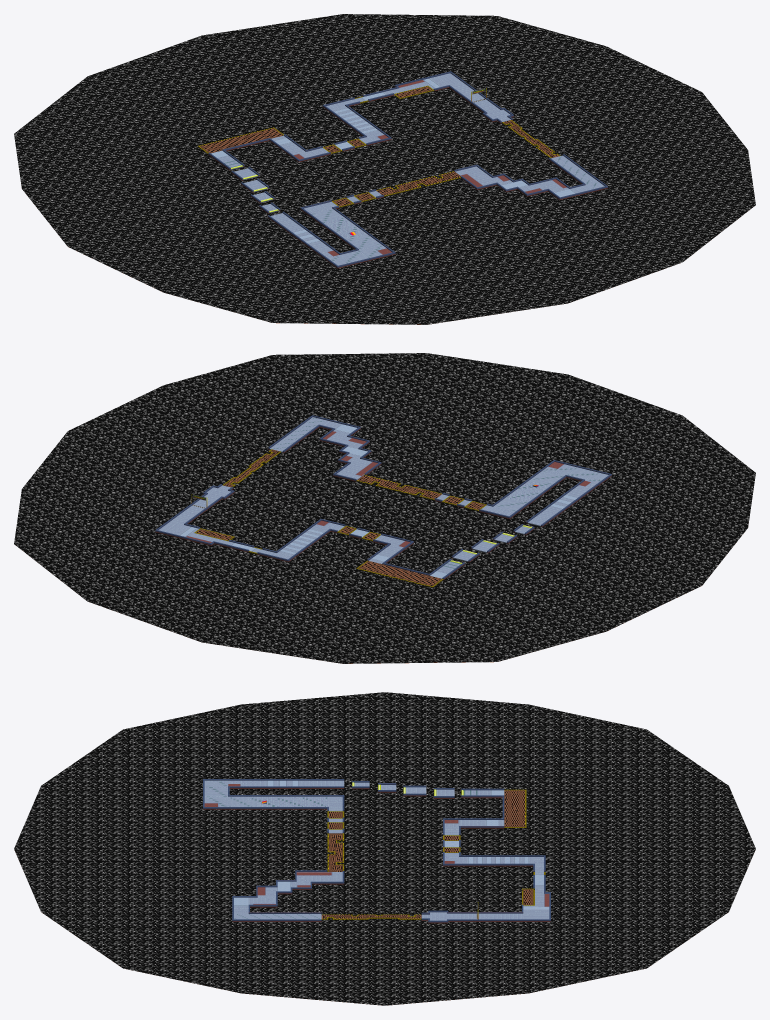
File: course.glb
3 views of the same model, one above another, from view 1: azimuth 30°, elevation 25°; view 2: azimuth 150°, elevation 25°; view 3: azimuth 270°, elevation 25° (orthographic).
Visible parts, largest first — view 1: polygon78, polygon70, polygon24, polygon25, polygon74, polygon0, polygon8, polygon71; view 2: polygon78, polygon70, polygon24, polygon25, polygon74, polygon0, polygon8, polygon71; view 3: polygon78, polygon70, polygon24, polygon25, polygon74, polygon0, polygon71, polygon8, polygon18.
Boxes of the visible parts, left/top/right/bottom form: polygon78: left=14, top=14, right=755, bottom=324; polygon70: left=217, top=73, right=591, bottom=257; polygon24: left=208, top=72, right=607, bottom=268; polygon25: left=209, top=71, right=607, bottom=266; polygon74: left=310, top=155, right=604, bottom=265; polygon0: left=200, top=86, right=558, bottom=206; polygon8: left=197, top=85, right=560, bottom=207; polygon71: left=211, top=78, right=574, bottom=243; polygon78: left=14, top=353, right=755, bottom=663; polygon70: left=158, top=420, right=596, bottom=573; polygon24: left=155, top=416, right=611, bottom=580; polygon25: left=155, top=415, right=611, bottom=577; polygon74: left=270, top=417, right=608, bottom=511; polygon0: left=196, top=449, right=484, bottom=585; polygon8: left=194, top=449, right=486, bottom=587; polygon71: left=180, top=424, right=576, bottom=578; polygon78: left=14, top=692, right=755, bottom=1005; polygon70: left=228, top=780, right=549, bottom=920; polygon24: left=203, top=779, right=550, bottom=923; polygon25: left=203, top=779, right=550, bottom=921; polygon74: left=204, top=780, right=328, bottom=919; polygon0: left=321, top=790, right=533, bottom=918; polygon71: left=234, top=780, right=549, bottom=909; polygon8: left=321, top=789, right=545, bottom=919; polygon18: left=204, top=784, right=549, bottom=906.
Size of the model in its own units: 1116 by 20.14 by 1116.
18 materials, 18 textured.
